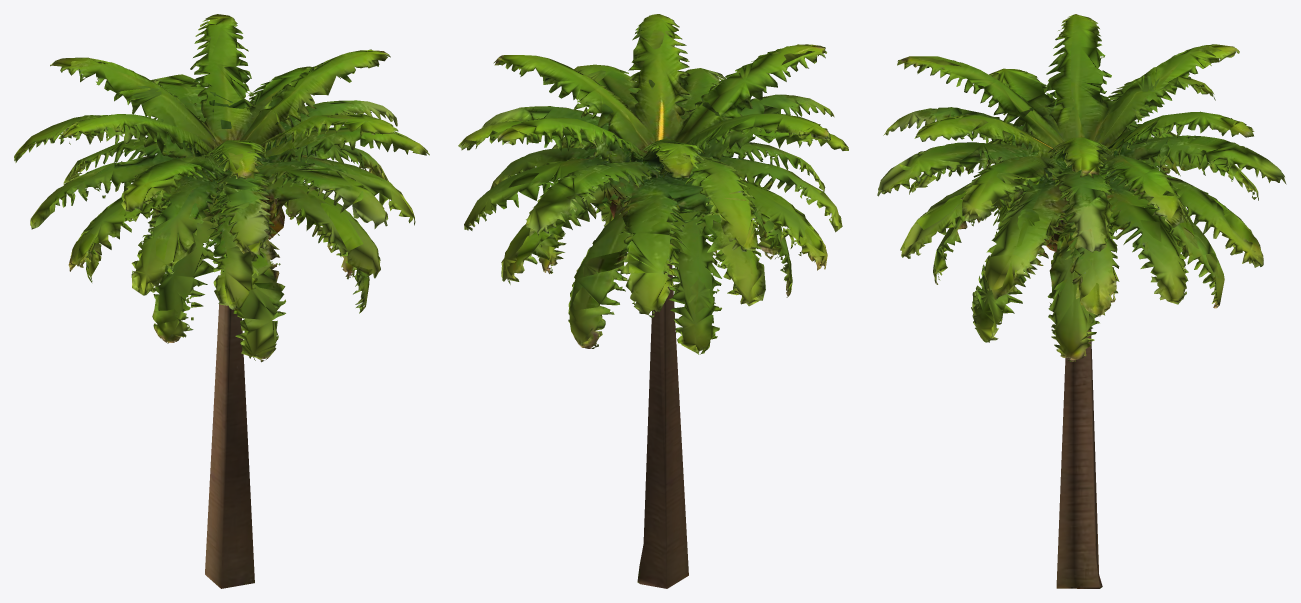
Rendered from lib_tp_dua.near.glb.
The picture shows the model from 3 angles, left to right: view 1: azimuth 30°, elevation 25°; view 2: azimuth 150°, elevation 25°; view 3: azimuth 270°, elevation 25°; orthographic projection.
Size of the model in its own units: 1.46 by 1.99 by 1.5.
1 material, 1 textured.
